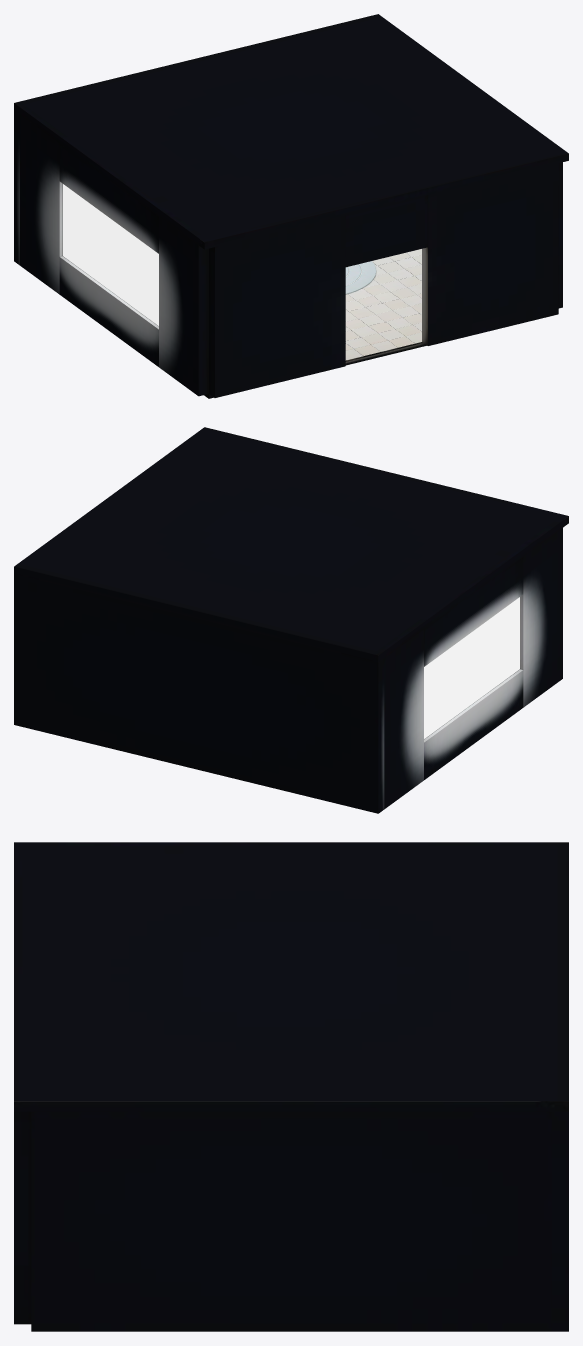
The model's file is room_ocean_m.glb.
3 views of the same model, one above another, from view 1: azimuth 30°, elevation 25°; view 2: azimuth 150°, elevation 25°; view 3: azimuth 270°, elevation 25° (orthographic). The views are drawn at different scales.
Visible parts, largest first — view 1: baked_ceiling, baked_walls, window_glass, baked_floor, baked_furn; view 2: baked_walls, baked_ceiling, window_glass; view 3: baked_ceiling, baked_walls.
Boxes of the visible parts, left/top/right/bottom form: baked_ceiling: left=14, top=14, right=568, bottom=249; baked_walls: left=14, top=110, right=562, bottom=397; window_glass: left=63, top=184, right=158, bottom=325; baked_floor: left=204, top=249, right=426, bottom=398; baked_furn: left=345, top=261, right=375, bottom=294; baked_walls: left=14, top=528, right=562, bottom=813; baked_ceiling: left=14, top=427, right=568, bottom=662; window_glass: left=424, top=597, right=519, bottom=738; baked_ceiling: left=14, top=842, right=568, bottom=1111; baked_walls: left=14, top=1111, right=568, bottom=1331.
Bounding box in the file's own units: 10.6 × 4.54 × 9.6.
6 materials, 4 textured.
